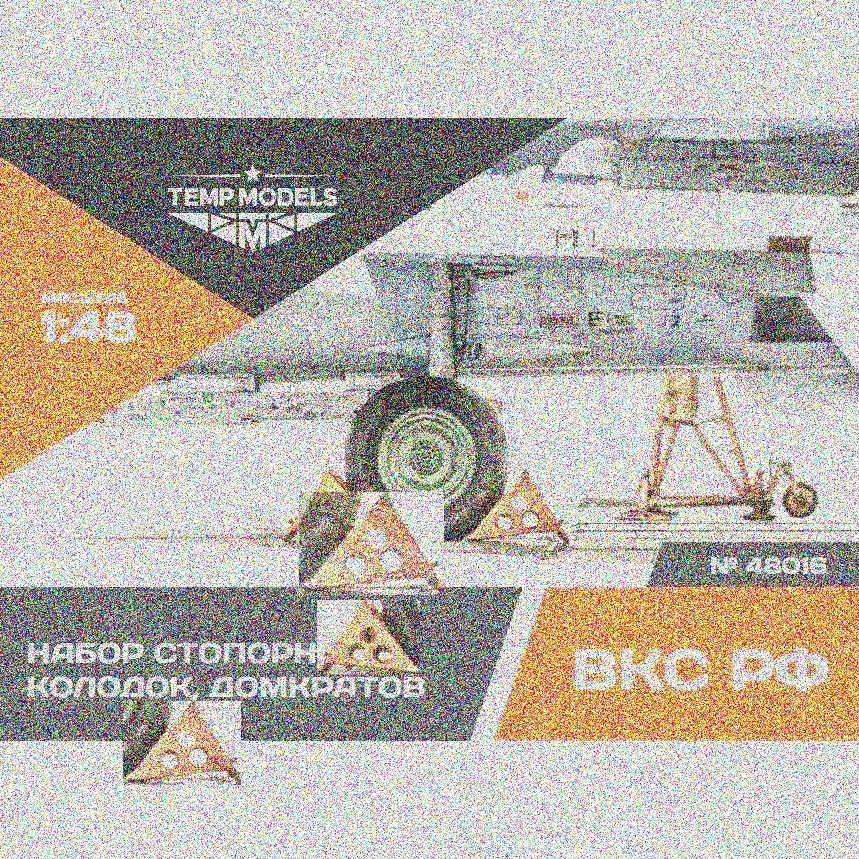chock: (299, 492, 444, 595), (123, 701, 241, 785), (317, 600, 420, 675), (464, 471, 568, 544), (282, 470, 383, 542)
wheel: (342, 372, 509, 536), (780, 479, 817, 517)
